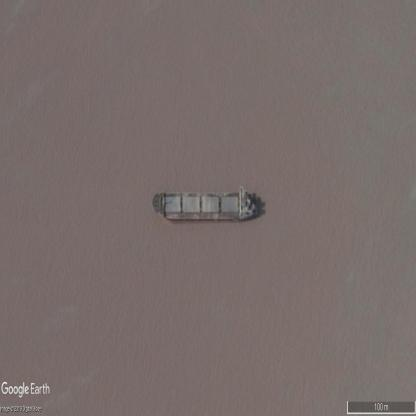ship: (152, 190, 259, 220)
